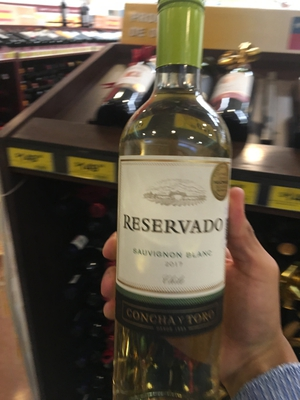reservado sauvignon blanc: (109, 3, 253, 400)
